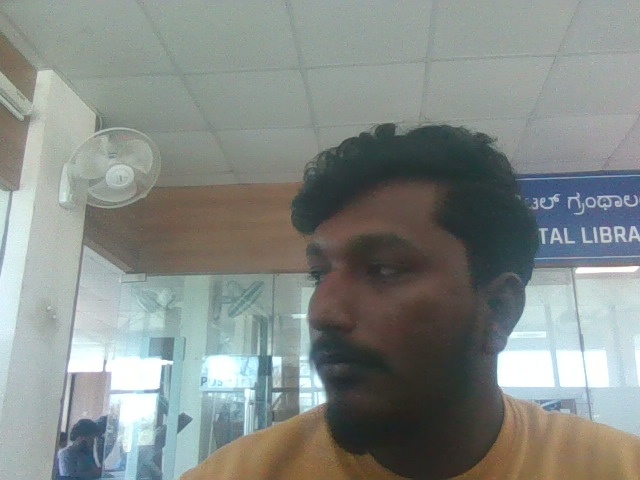real: (280, 104, 514, 435)
